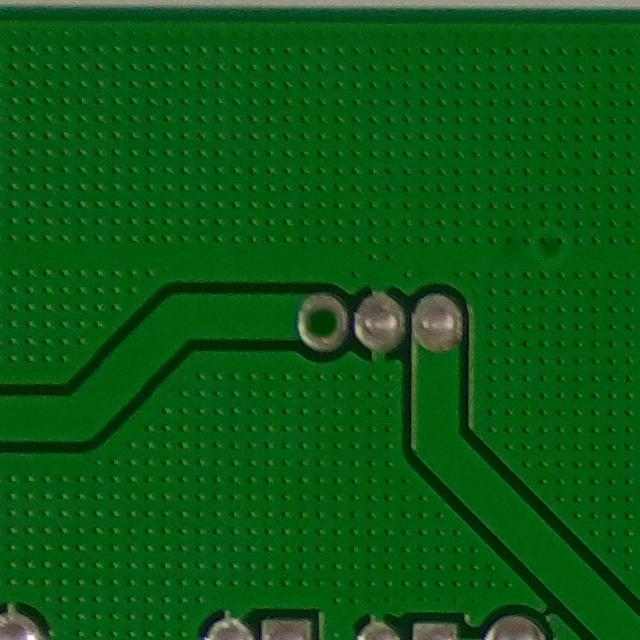missing_hole: (292, 287, 348, 354)
